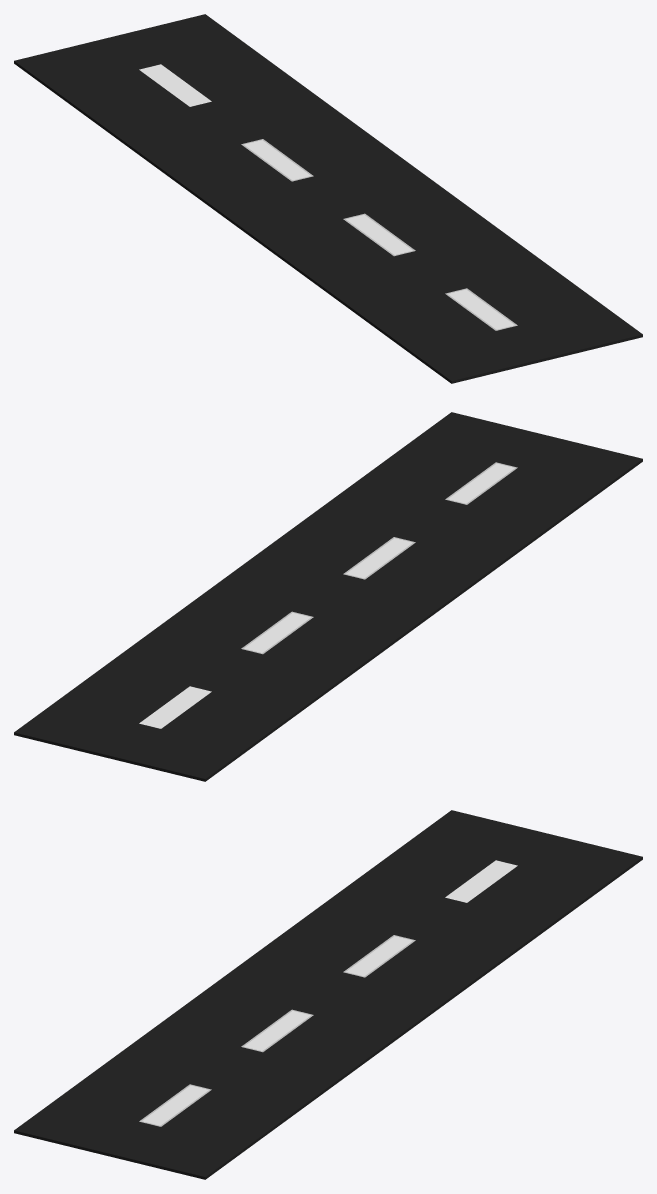
File: Road.fbx
3 renders of one model, top to bottom at view 1: azimuth 30°, elevation 25°; view 2: azimuth 150°, elevation 25°; view 3: azimuth 330°, elevation 25°, orthographic.
Parts seen in each view (by area): view 1: Road; view 2: Road; view 3: Road.
Boxes of the visible parts, x1,y1,x2,y2 form: Road: [14, 14, 642, 383]; Road: [14, 412, 642, 781]; Road: [14, 810, 642, 1179].
Bounding box in the file's own units: 3910 × 53.99 × 15486.
